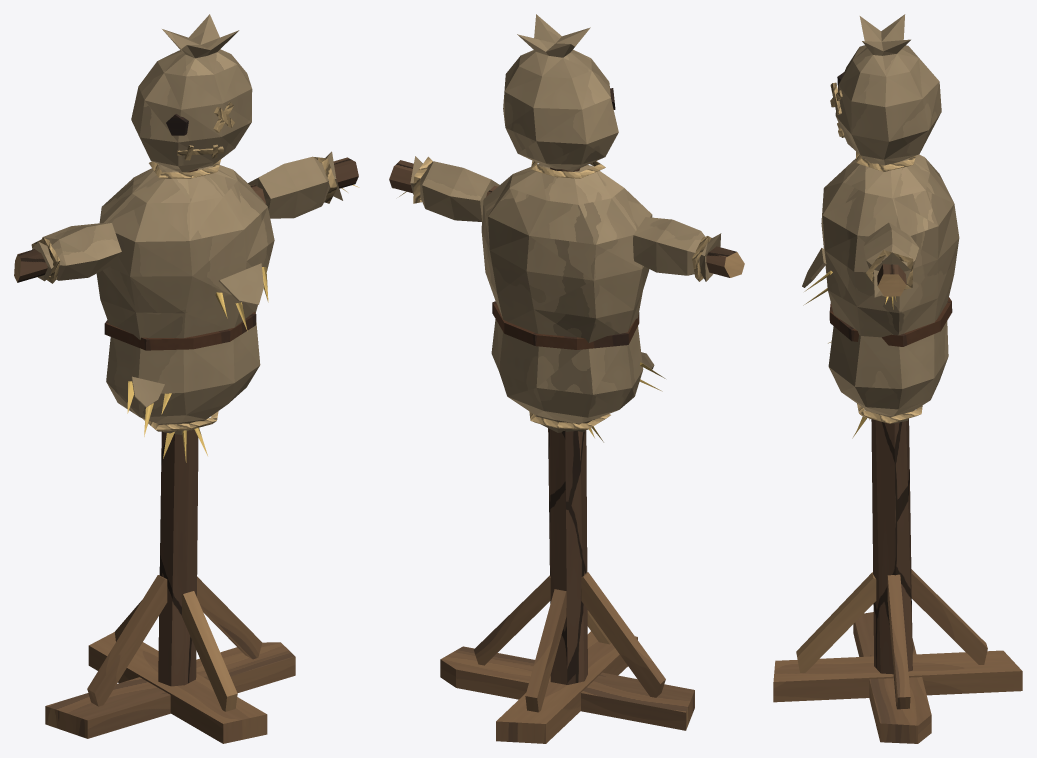
Rendered from SM_TrainingDummy.fbx.
The picture shows the model from 3 angles, left to right: view 1: azimuth 30°, elevation 25°; view 2: azimuth 150°, elevation 25°; view 3: azimuth 270°, elevation 25°; orthographic projection.
Visible parts, largest first — view 1: SM_TrainingDummy; view 2: SM_TrainingDummy; view 3: SM_TrainingDummy.
Boxes of the visible parts, x1,y1,x2,y2 form: SM_TrainingDummy: (14, 14, 359, 743); SM_TrainingDummy: (389, 14, 744, 743); SM_TrainingDummy: (773, 14, 1022, 743).
Bounding box in the file's own units: 0.9879 × 1.81 × 0.6106.
